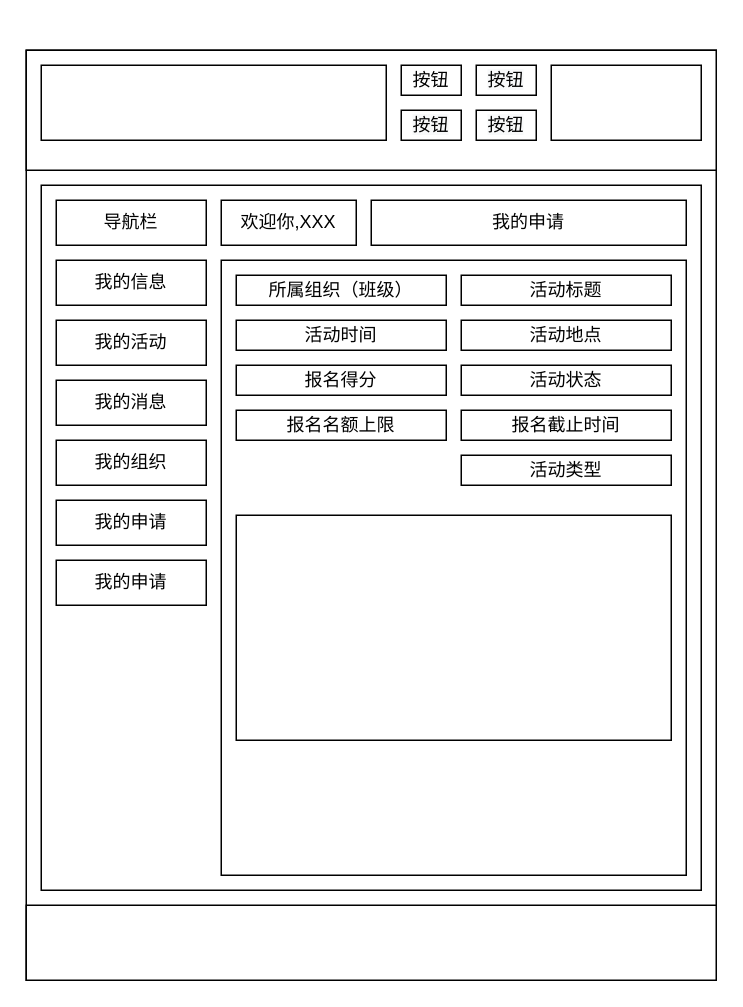
Some shapes in this 743 by 1007 pixel diagram are drawn without their labels. The shapes that lost their labels are listed below. From the top down, each one's centre as x and y in pixels, then its label:
(213,102): 网站标题（文字+图片）
(625,102): 当前登录学生信息显示（跳转主页）
(453,627): 活动详细内容
(370,942): 底部导航栏&联系发邮件
